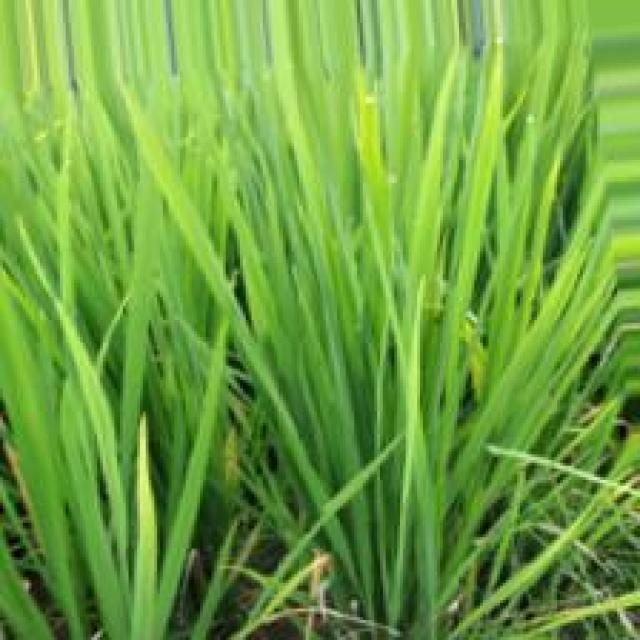HealthyLeaf: (14, 380, 56, 511), (129, 272, 155, 353), (170, 493, 198, 550)
